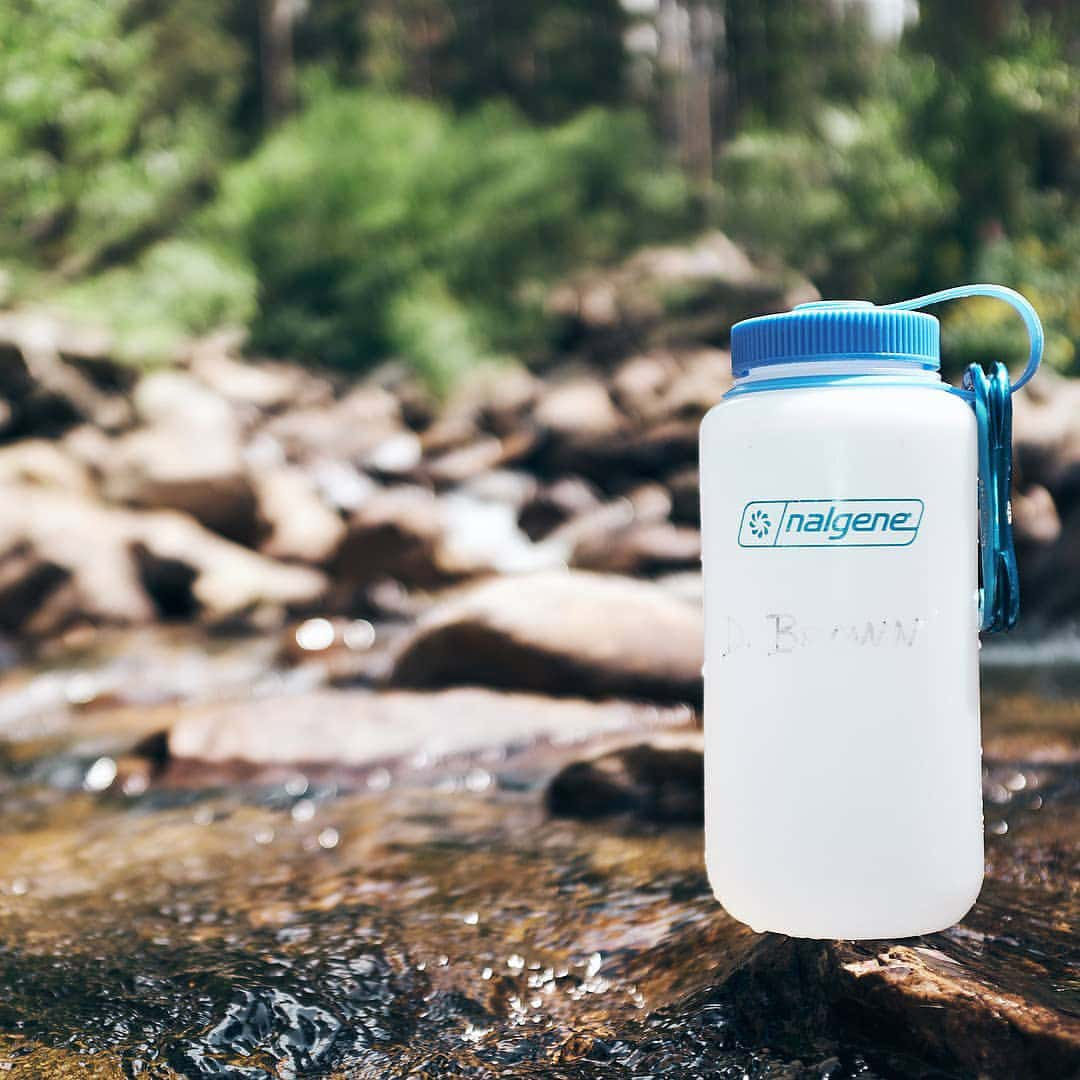bottle: (696, 278, 1046, 947)
